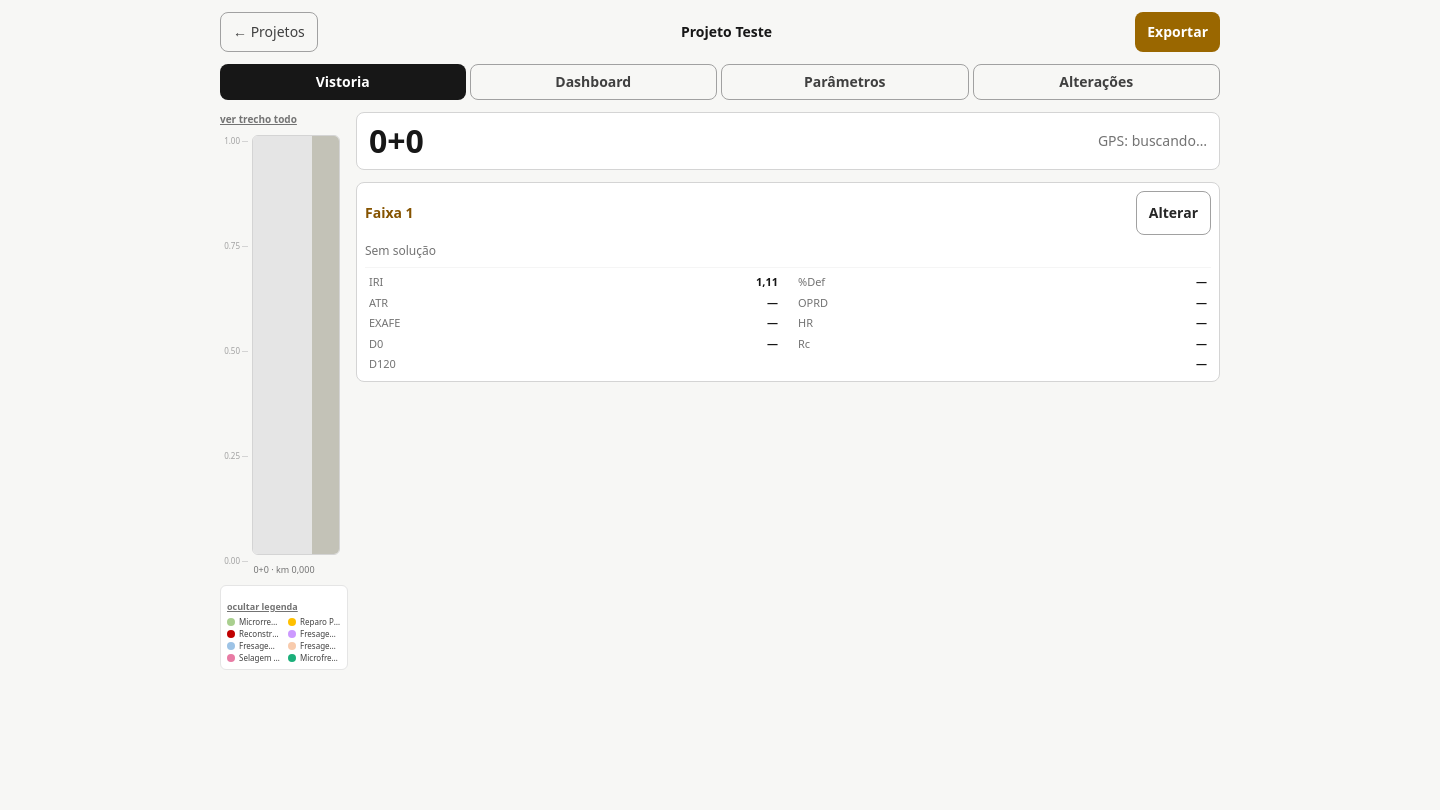
VistoriaScreen — clique na régua atualiza os cards de Faixa (regressão pós-rodada-4) › editar via consulta na régua salva na estaca CONSULTADA, nunca na ativa
The image size is (1440, 810).
Expected: the button "Alterar" is shown, 1136,191 -> 1211,235
Step 1. Press the mouse on the button named "Régua de consulta" → (296, 345), box 252,135 -> 340,555
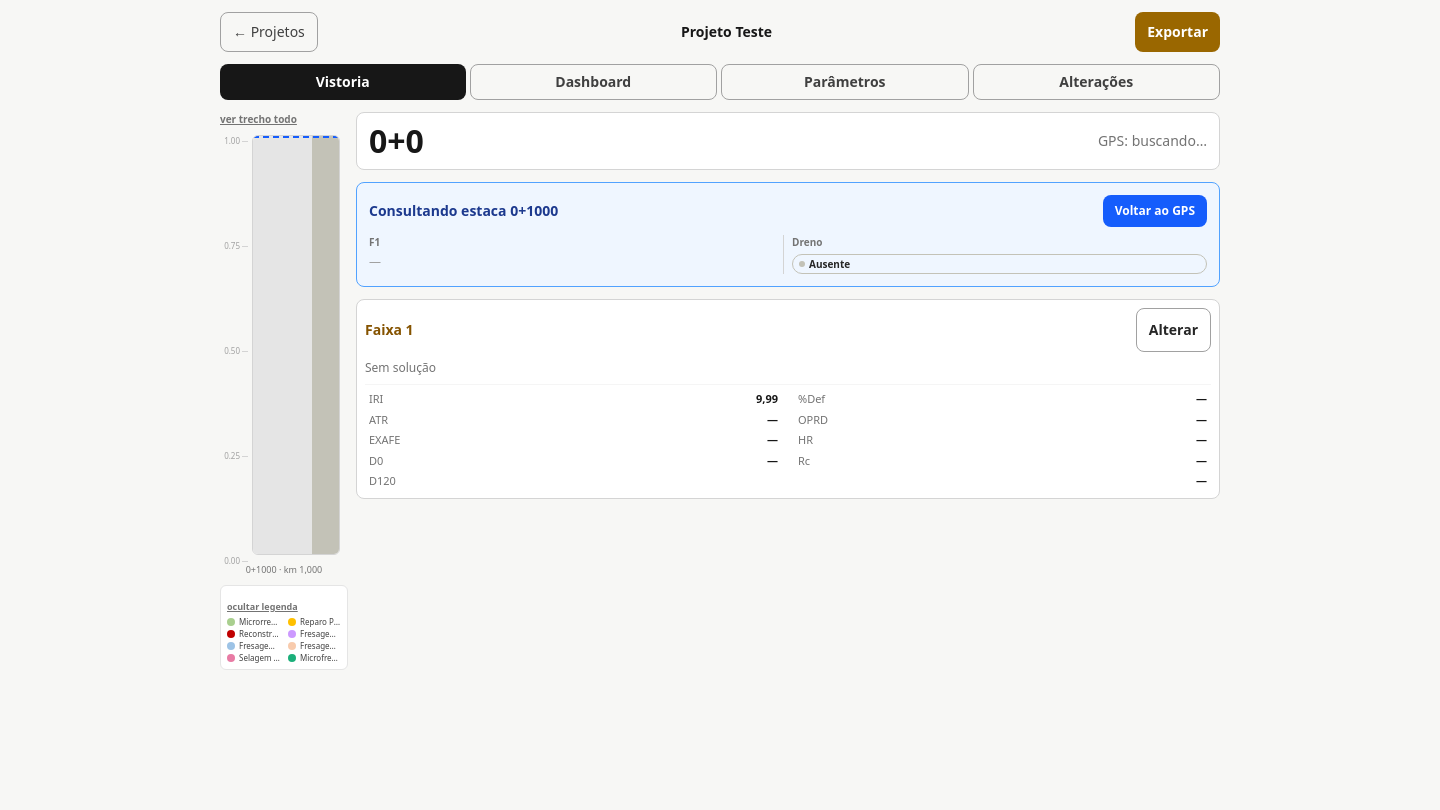
Expected: the text "9,99" is shown, 756,391 -> 778,408
Step 2. Click the button "Alterar" → (1173, 330), box 1136,308 -> 1211,352
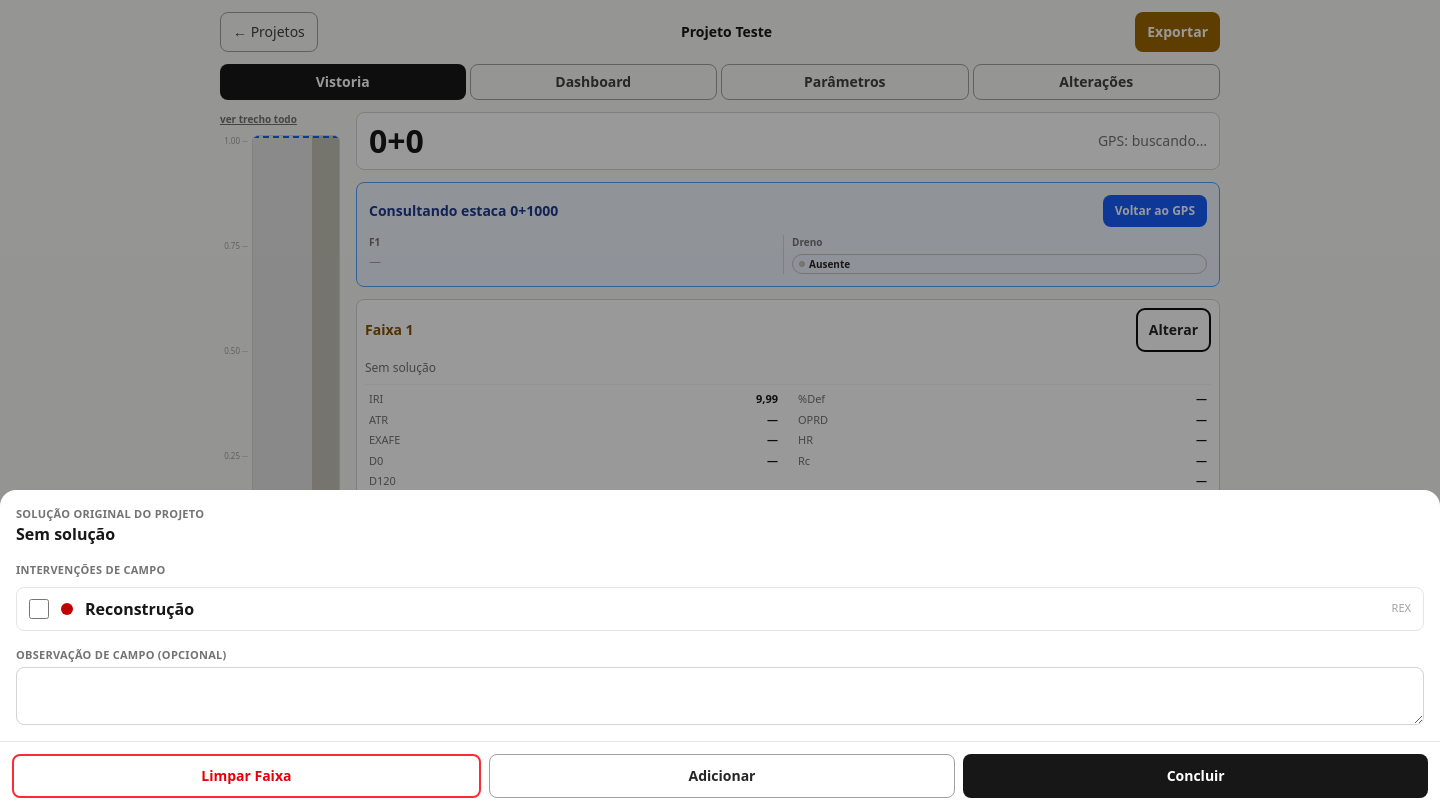
Step 3. Click the text "Reconstrução" → (140, 608), box 85,596 -> 194,620
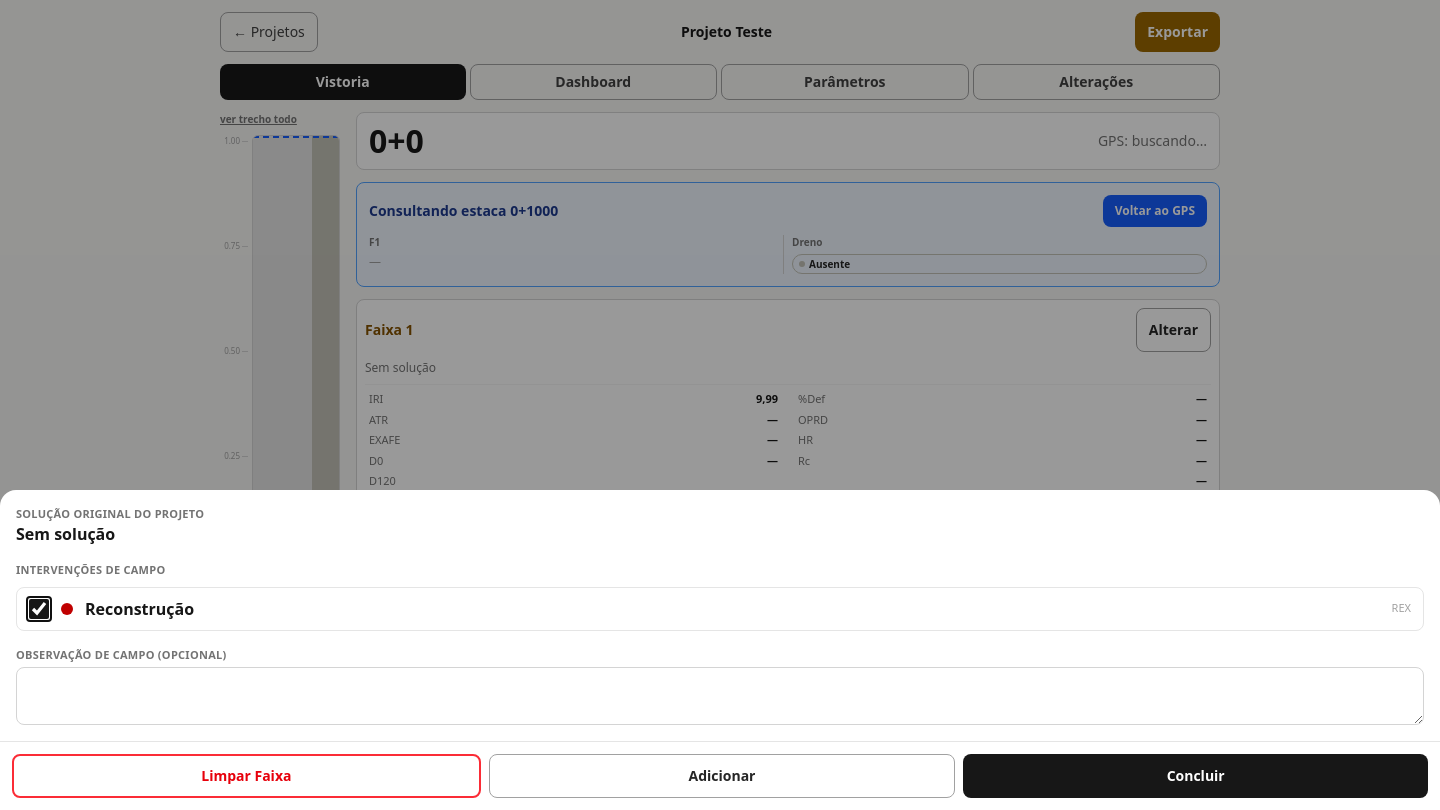
Step 4. Click the button "Adicionar" → (722, 776), box 489,754 -> 955,798
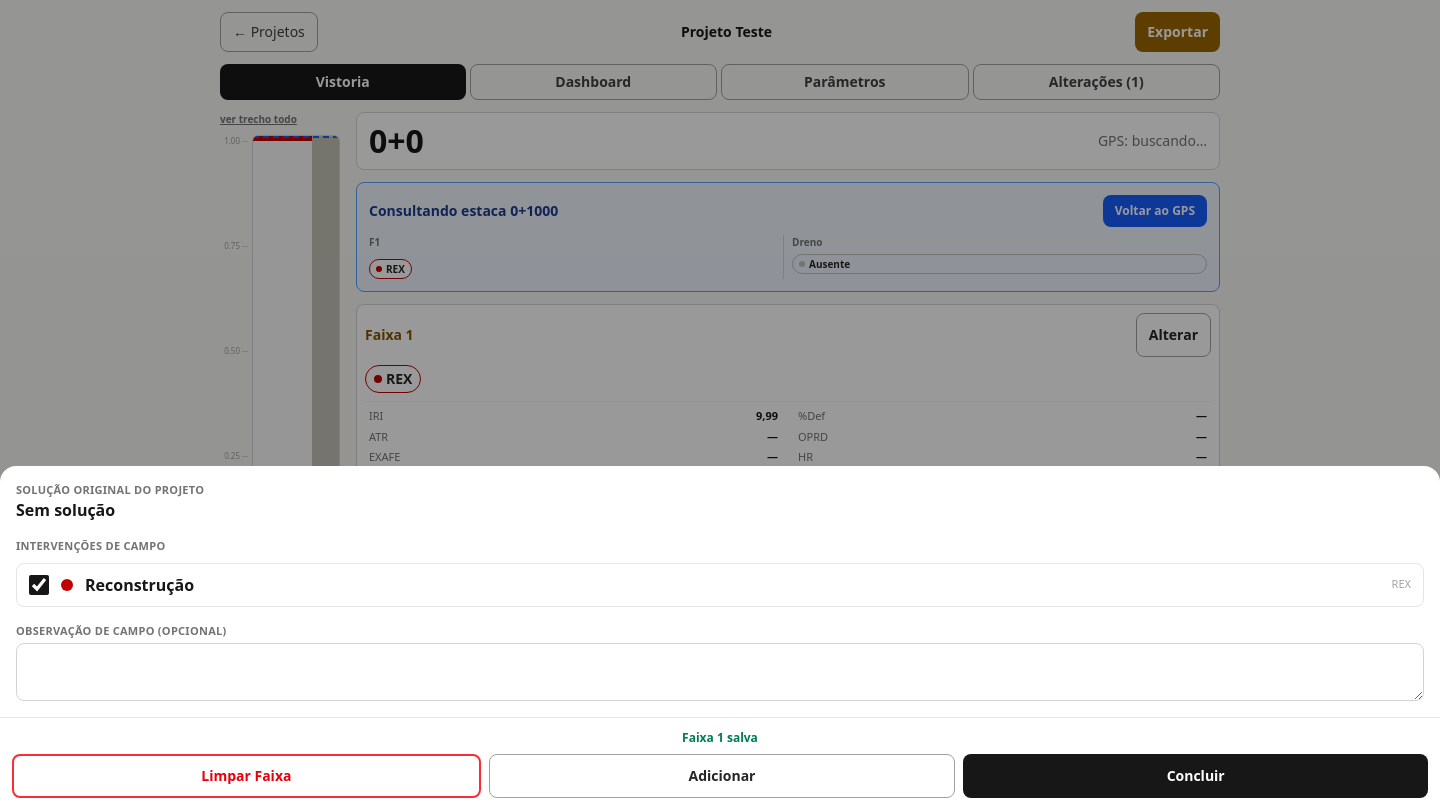
Expected: the text "Faixa 1 salva" is shown, 682,729 -> 758,746
Step 5. Click the button "Concluir" → (1196, 776), box 963,754 -> 1428,798
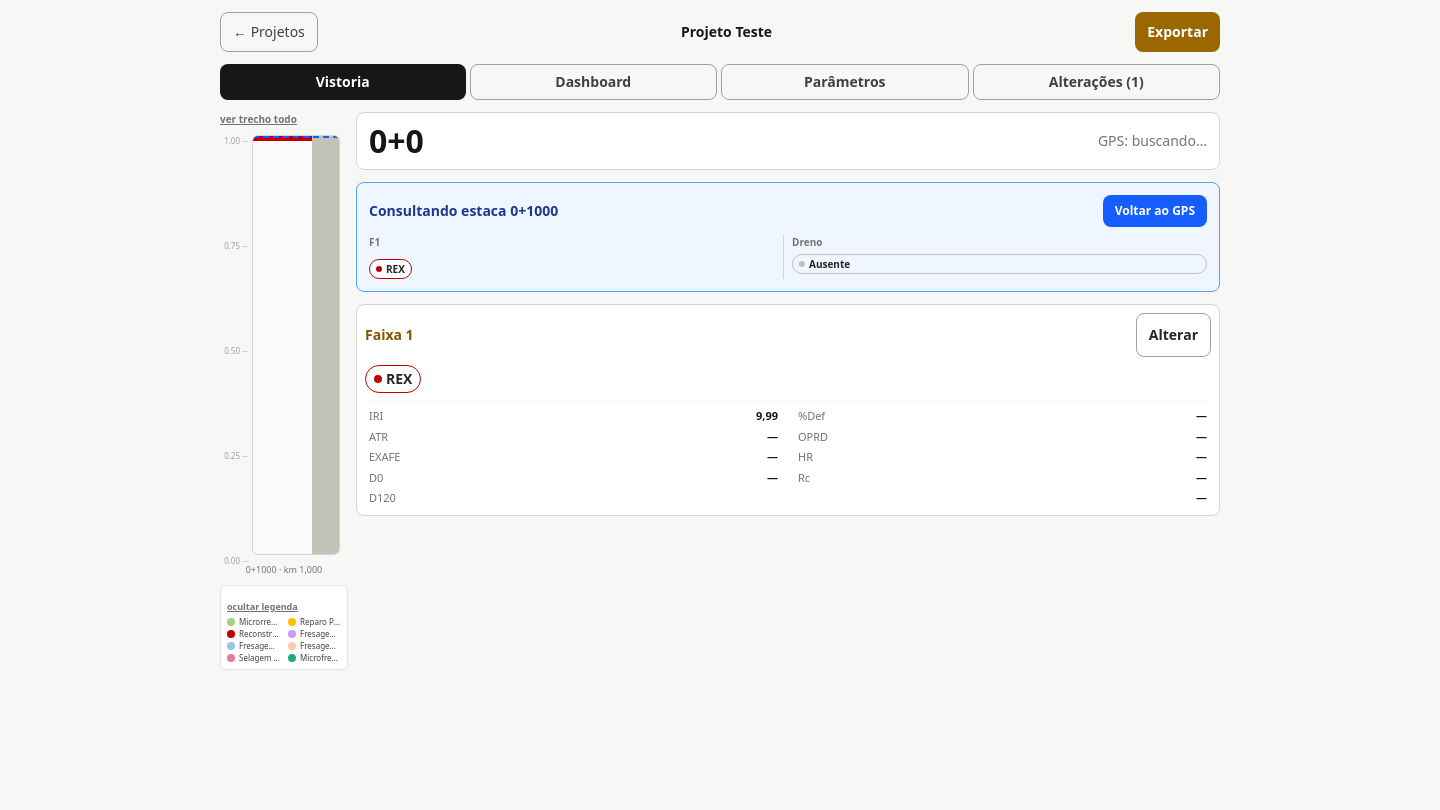
Step 6. Click the button "Alterações (1)" → (1096, 82), box 972,64 -> 1220,100
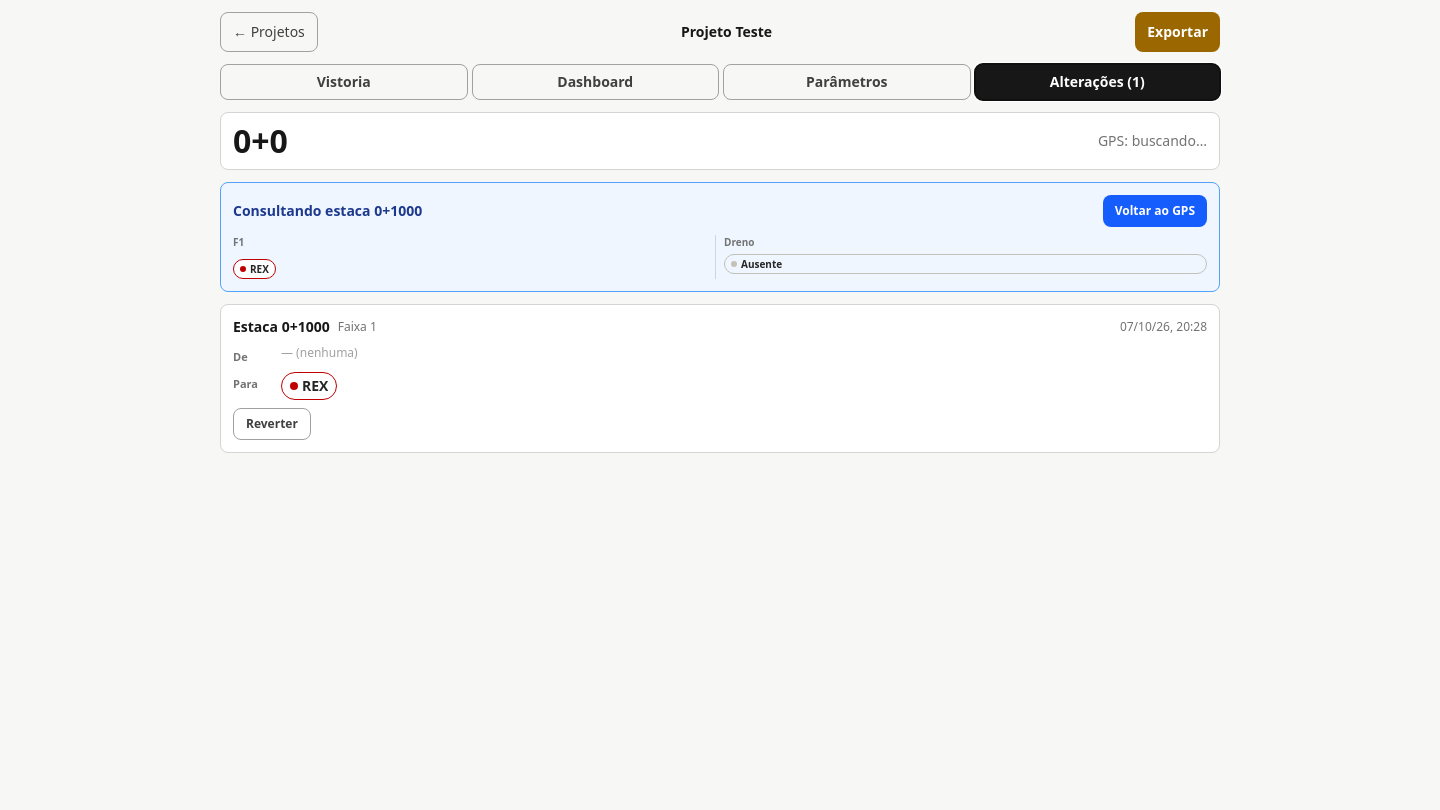
Expected: the text "Estaca 0+1000" is shown, 233,317 -> 330,337
